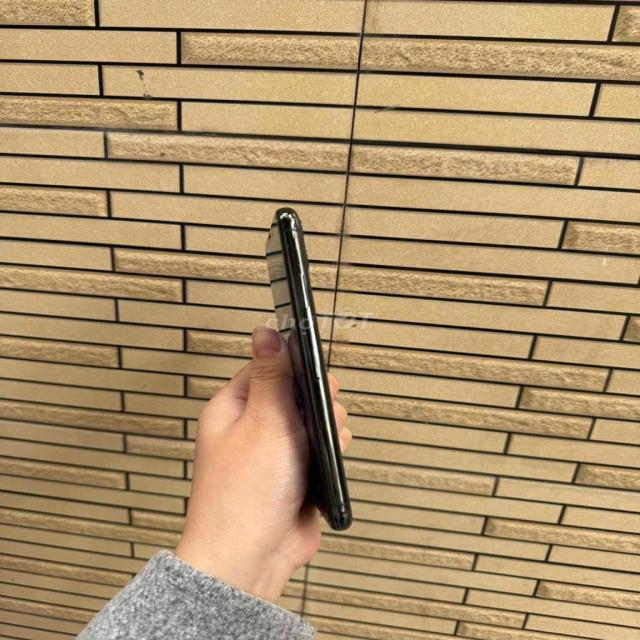gen_11: (265, 208, 351, 530)
